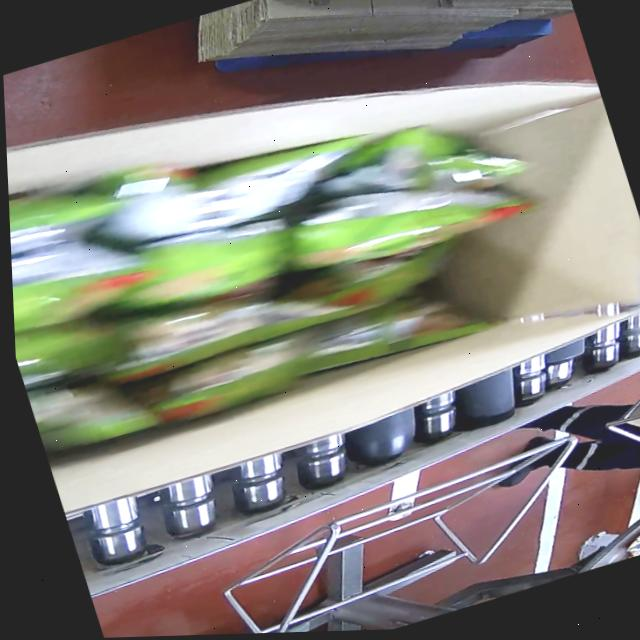YOGURT_HERB: (3, 46, 568, 465)
